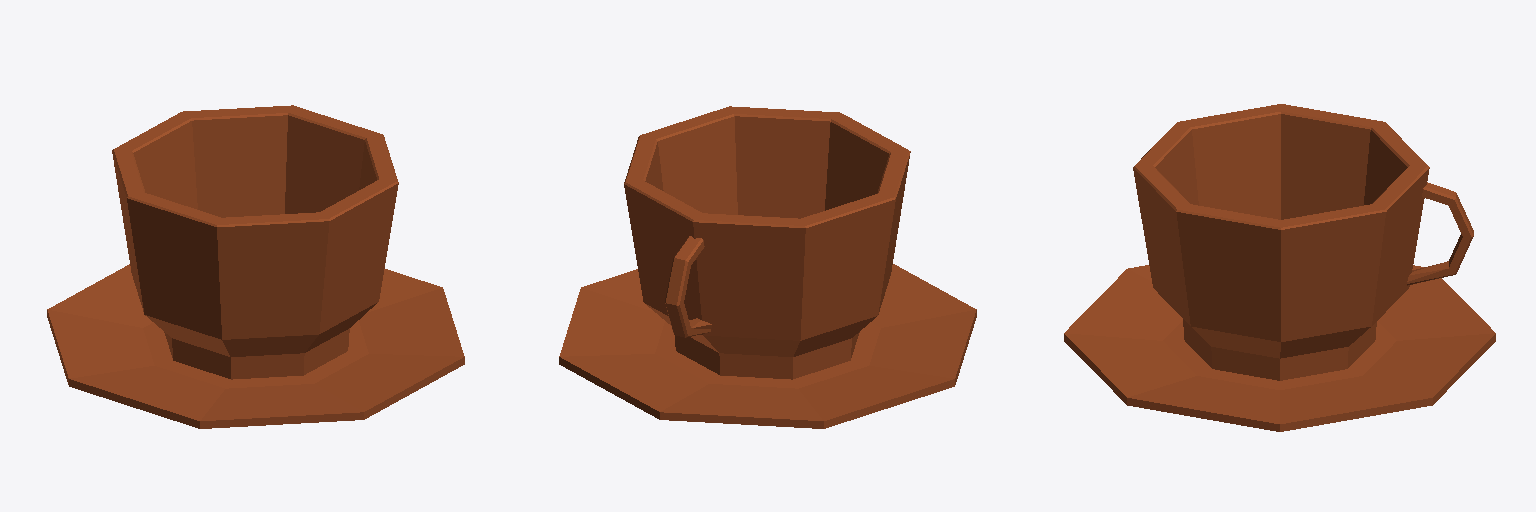
File: TeaCup1.obj
3 renders of one model, left to right at view 1: azimuth 30°, elevation 25°; view 2: azimuth 150°, elevation 25°; view 3: azimuth 270°, elevation 25°, orthographic.
Parts seen in each view (by area): view 1: TeaCup1_Cylinder, Plate1TeaCup1_Cylinder.002; view 2: TeaCup1_Cylinder, Plate1TeaCup1_Cylinder.002; view 3: TeaCup1_Cylinder, Plate1TeaCup1_Cylinder.002.
Part boxes in pixels (bbox=[...]): TeaCup1_Cylinder: bbox=[112, 105, 398, 379]; Plate1TeaCup1_Cylinder.002: bbox=[47, 264, 464, 428]; TeaCup1_Cylinder: bbox=[624, 106, 910, 379]; Plate1TeaCup1_Cylinder.002: bbox=[559, 264, 976, 428]; TeaCup1_Cylinder: bbox=[1133, 104, 1473, 380]; Plate1TeaCup1_Cylinder.002: bbox=[1064, 265, 1495, 431].
Size of the model in its own units: 0.248 by 0.1143 by 0.248.